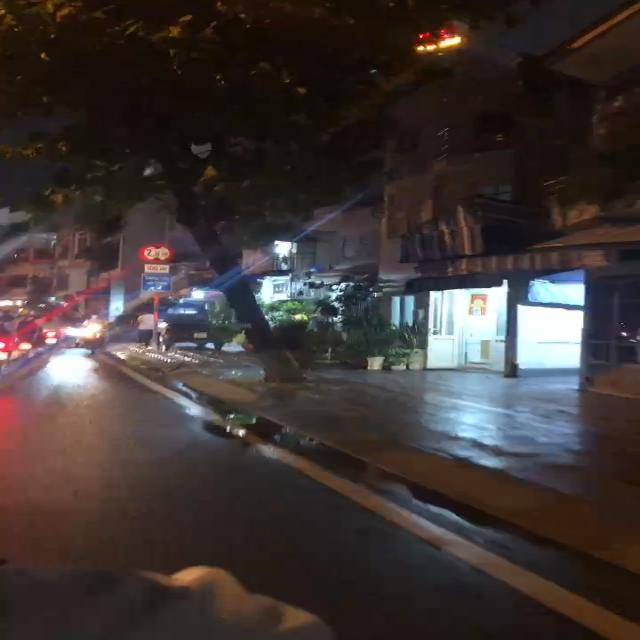Bien bao han che chieu cao: (138, 240, 176, 264)
